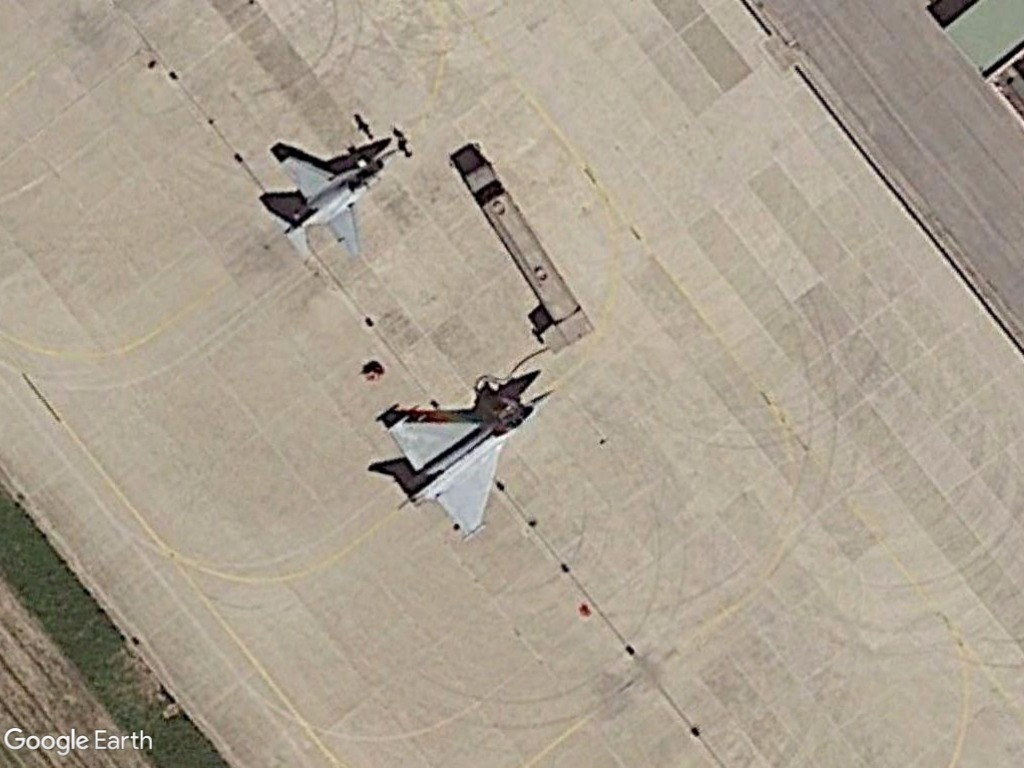fighter: (384, 357, 554, 543), (259, 129, 406, 265)
longvehicle: (448, 137, 598, 342)
